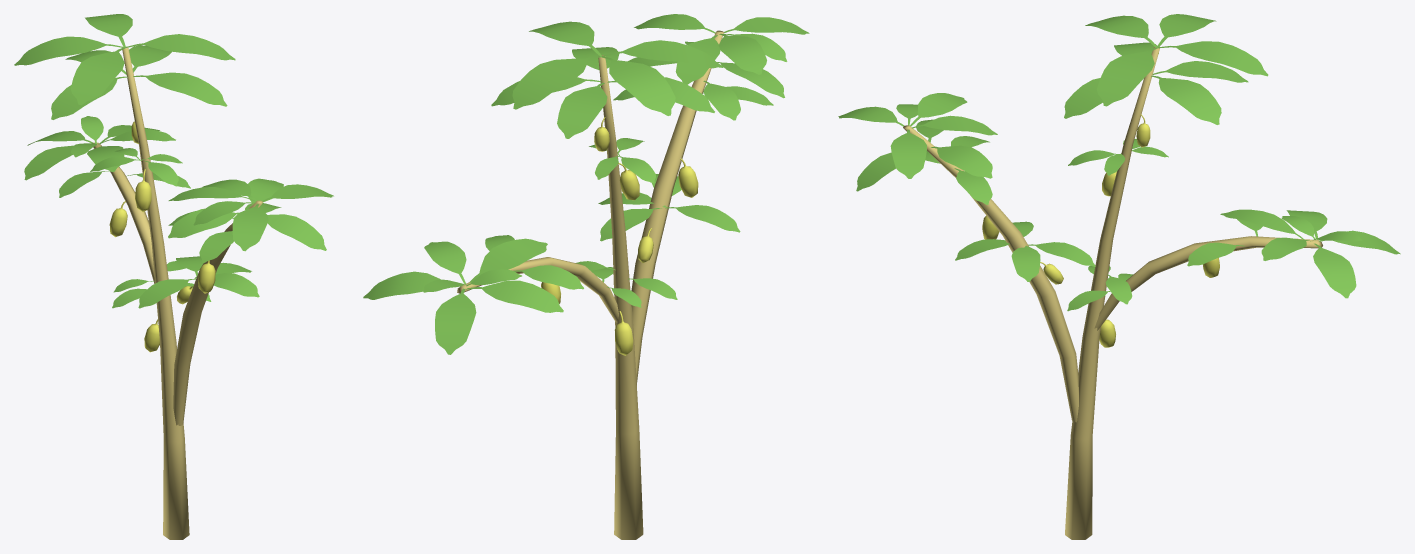
The model's file is model_verdecacau_01.fbx.
The picture shows the model from 3 angles, left to right: view 1: azimuth 30°, elevation 25°; view 2: azimuth 150°, elevation 25°; view 3: azimuth 270°, elevation 25°; orthographic projection. The views are drawn at different scales.
Parts seen in each view (by area): view 1: NurbsPath.036; view 2: NurbsPath.036; view 3: NurbsPath.036.
Boxes of the visible parts, x1,y1,x2,y2 form: NurbsPath.036: [14, 14, 333, 539]; NurbsPath.036: [363, 14, 809, 539]; NurbsPath.036: [838, 14, 1400, 539].
Bounding box in the file's own units: 1.85 × 3.88 × 4.09.
